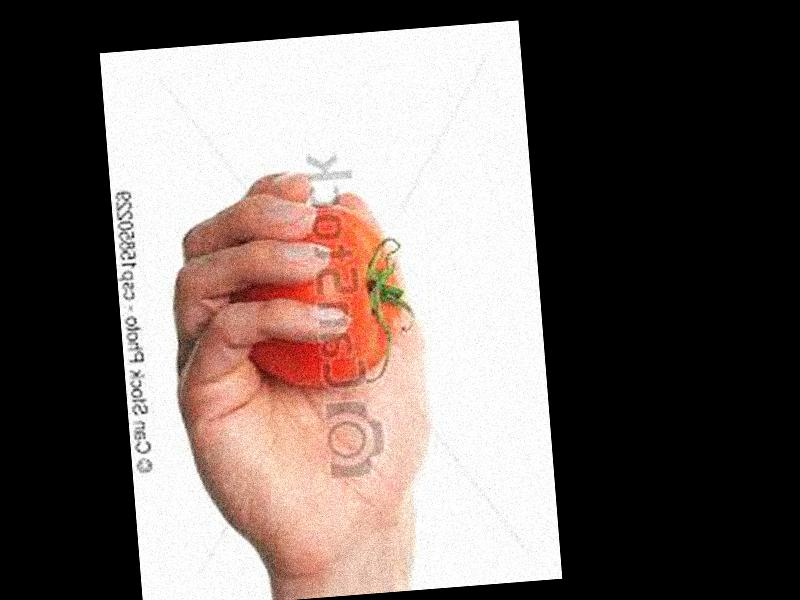Tomato: (230, 200, 405, 388)
